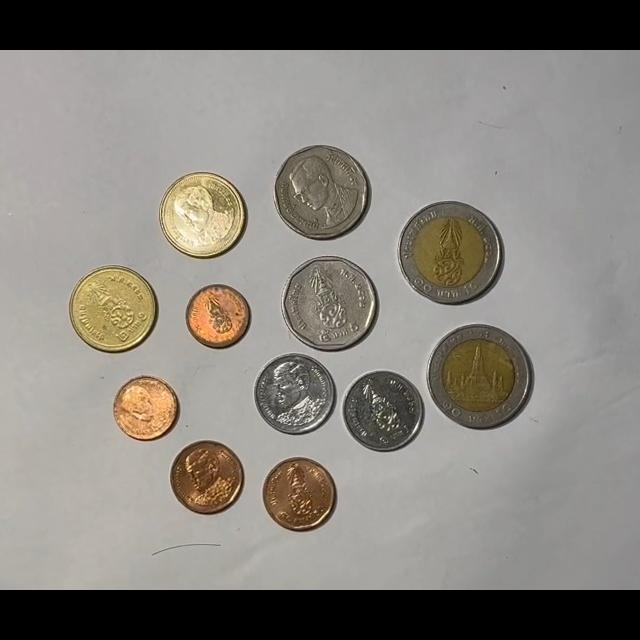1-baht: (342, 370, 424, 452), (254, 353, 336, 435)
10-baht: (427, 325, 532, 430), (397, 201, 503, 304)
2-baht: (158, 172, 247, 260), (69, 265, 157, 353)
25-satang: (113, 375, 180, 441), (185, 283, 251, 349)
5-baht: (281, 256, 378, 352), (274, 145, 371, 240)
50-satang: (170, 441, 245, 515), (262, 457, 336, 531)
